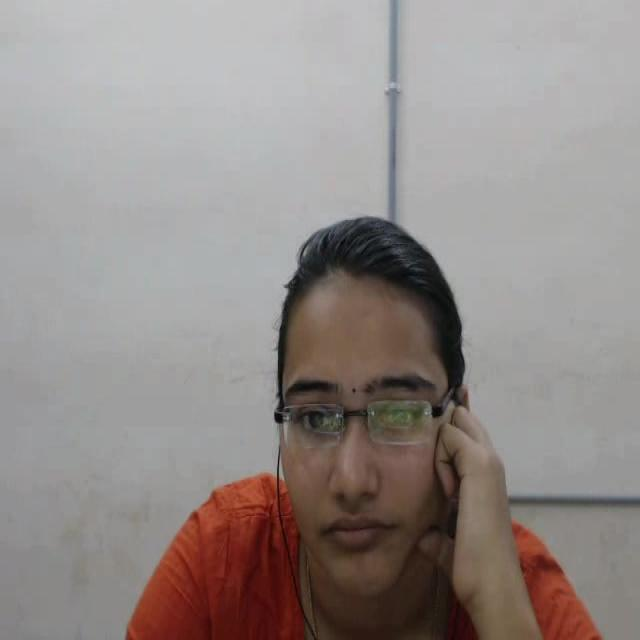Bored: (191, 185, 534, 640)
